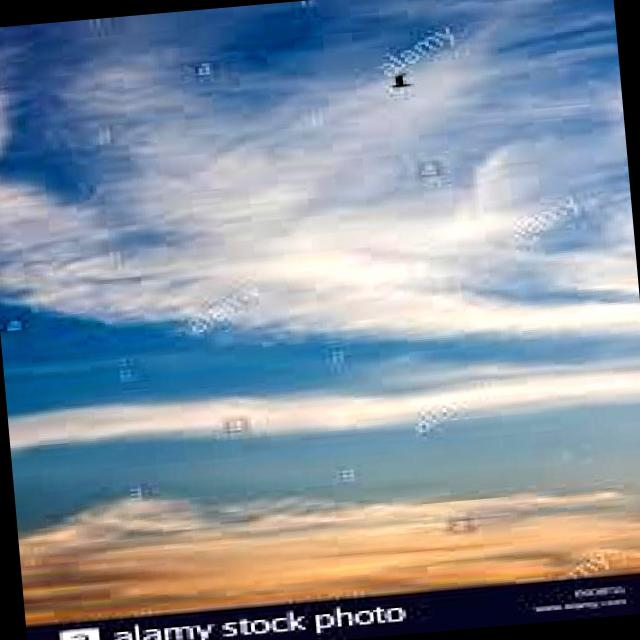bird: (384, 67, 419, 93)
